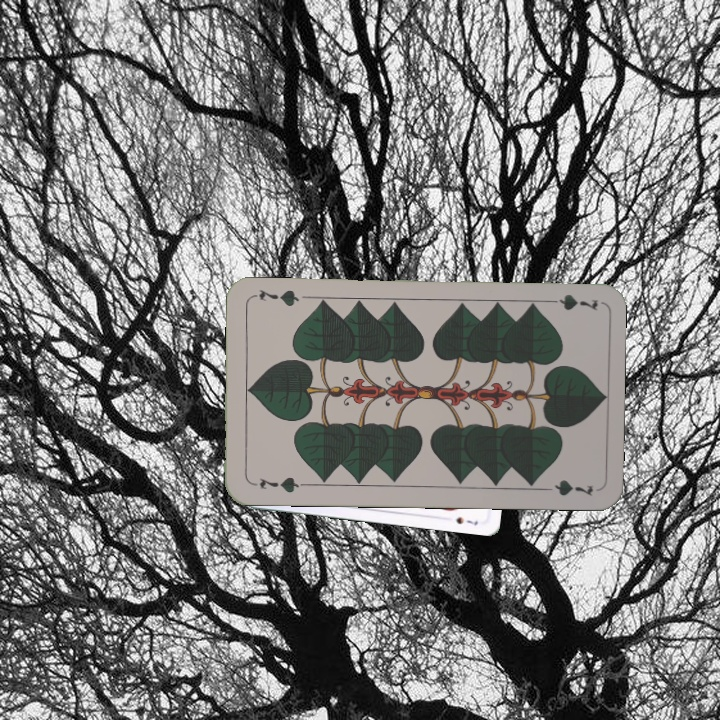G7: (248, 472, 307, 496), (541, 291, 600, 313)
